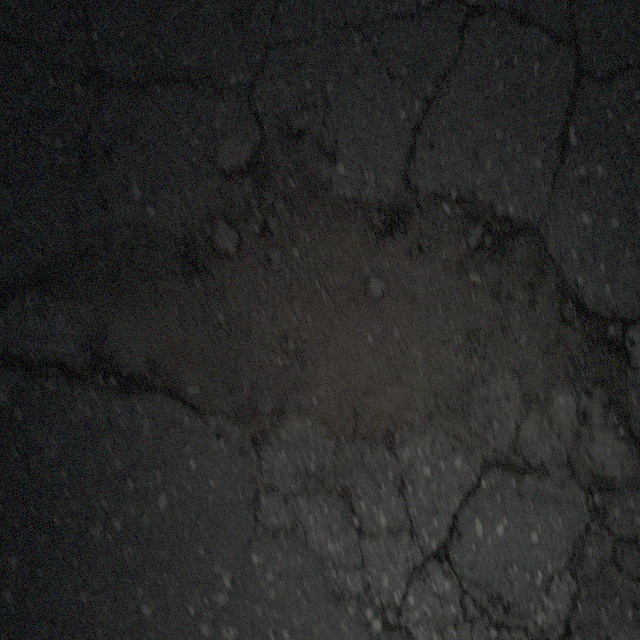pothole: (25, 153, 621, 513)
